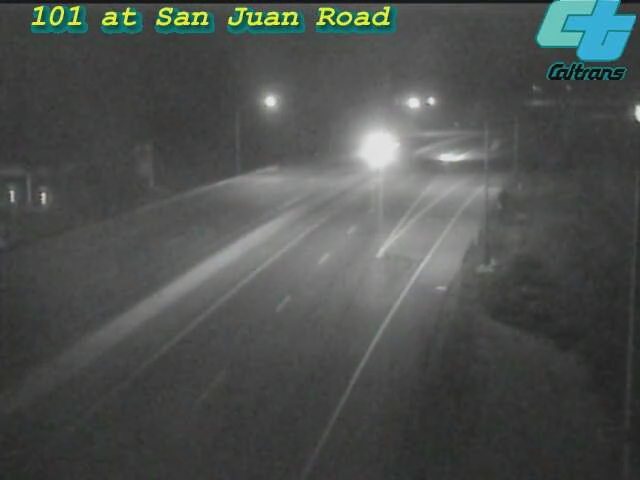vehicle: (354, 123, 404, 173), (419, 133, 469, 183)
